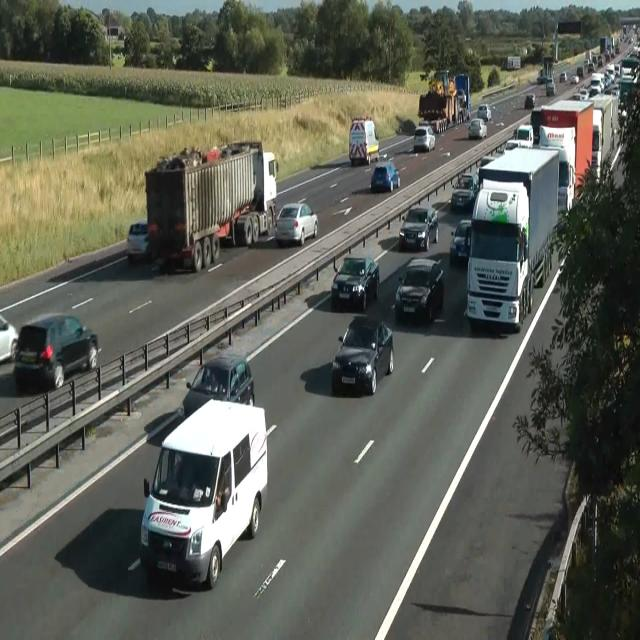bus: (179, 352, 255, 423), (331, 316, 394, 396), (330, 254, 380, 311), (274, 201, 318, 246), (398, 204, 438, 252), (450, 172, 478, 210), (449, 219, 472, 265), (127, 221, 151, 263), (370, 162, 400, 192), (0, 313, 18, 363), (505, 124, 533, 150), (475, 155, 496, 189), (413, 125, 435, 152), (468, 118, 487, 140), (478, 104, 492, 121), (524, 92, 536, 109), (545, 78, 555, 96), (456, 88, 466, 106), (536, 74, 548, 84), (569, 74, 579, 84), (559, 71, 567, 83)
jeep: (139, 396, 268, 590), (14, 312, 98, 389), (394, 256, 444, 324)
minibus: (144, 139, 278, 273), (465, 146, 559, 332), (532, 92, 618, 218), (216, 140, 278, 246), (418, 69, 470, 130), (349, 116, 379, 166), (507, 56, 521, 70)
